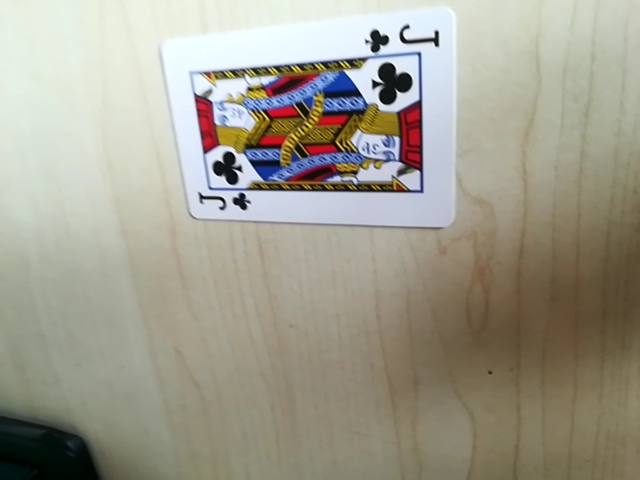mh j: (364, 22, 446, 56), (191, 183, 250, 219)
